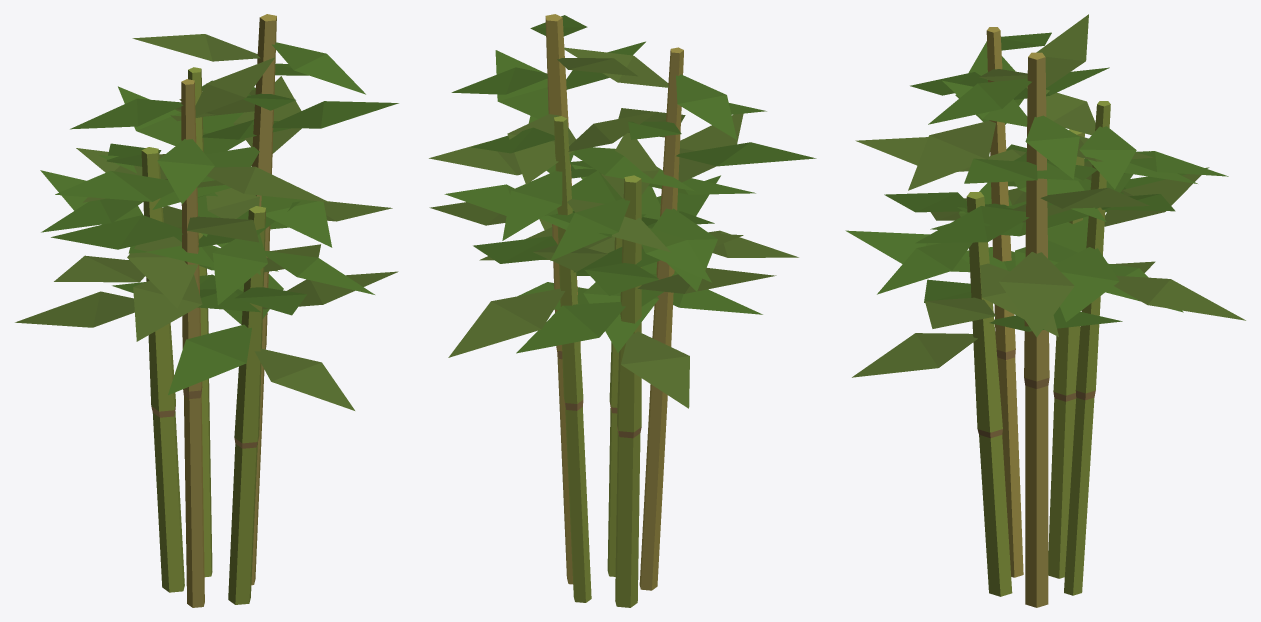
Rendered from E2_bamboo_a.glb.
3 renders of one model, left to right at view 1: azimuth 30°, elevation 25°; view 2: azimuth 150°, elevation 25°; view 3: azimuth 270°, elevation 25°, orthographic.
Parts seen in each view (by area): view 1: E2_bamboo_a; view 2: E2_bamboo_a; view 3: E2_bamboo_a.
Part boxes in pixels (x1,y1,x2,y2): E2_bamboo_a: [15, 14, 398, 607]; E2_bamboo_a: [429, 14, 816, 607]; E2_bamboo_a: [845, 14, 1245, 607].
Size of the model in its own units: 2.25 by 3.3 by 2.15.
